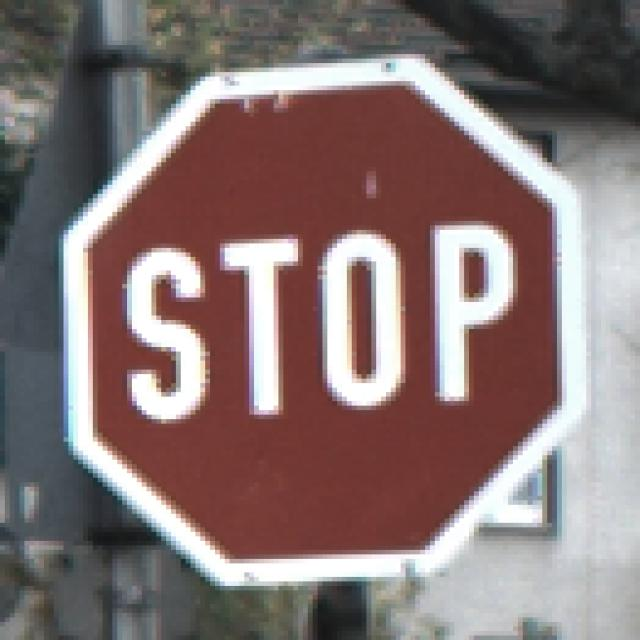STOP: (55, 55, 587, 587)
